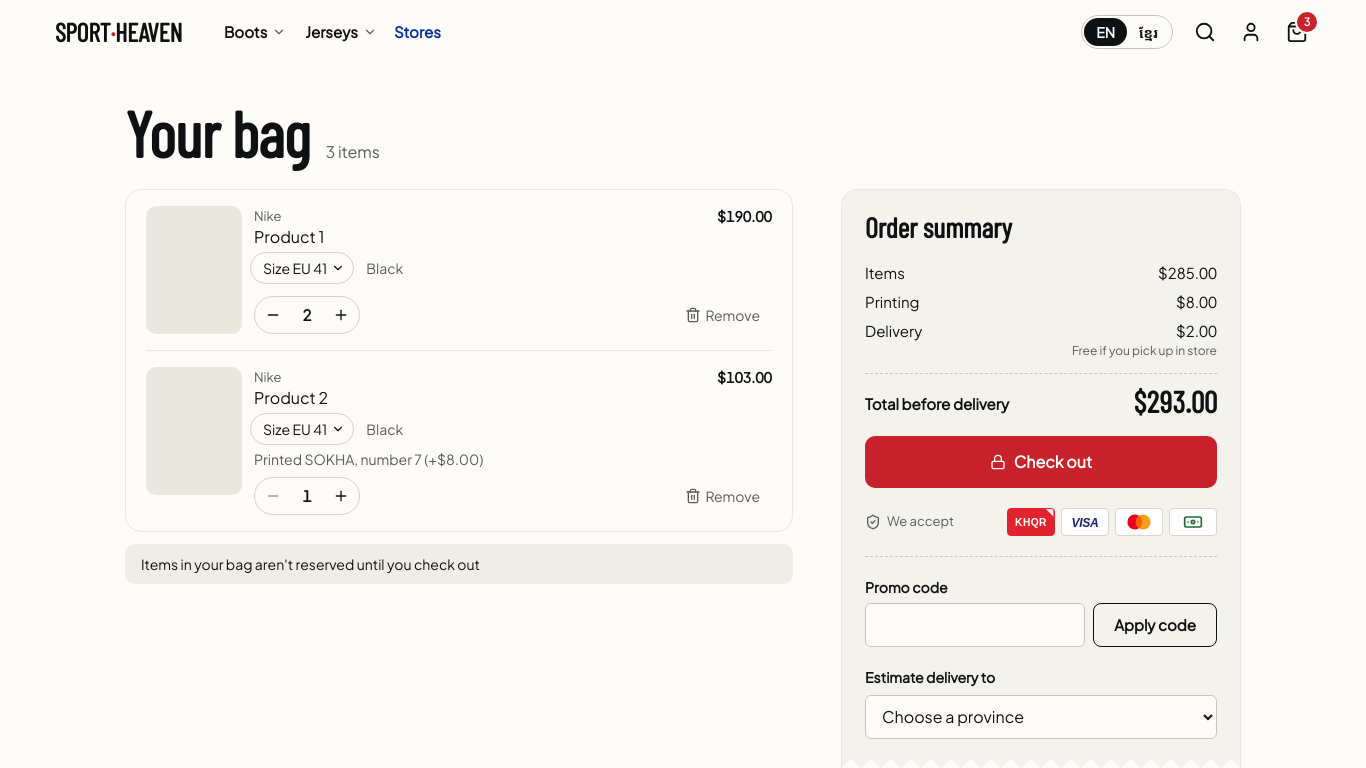
bag › removes a line
What coordinates should you click on to do the following:
click the button with aria-label "Remove Product 1"
I would click on:
 (723, 315)
Its box is [673,297,772,333].
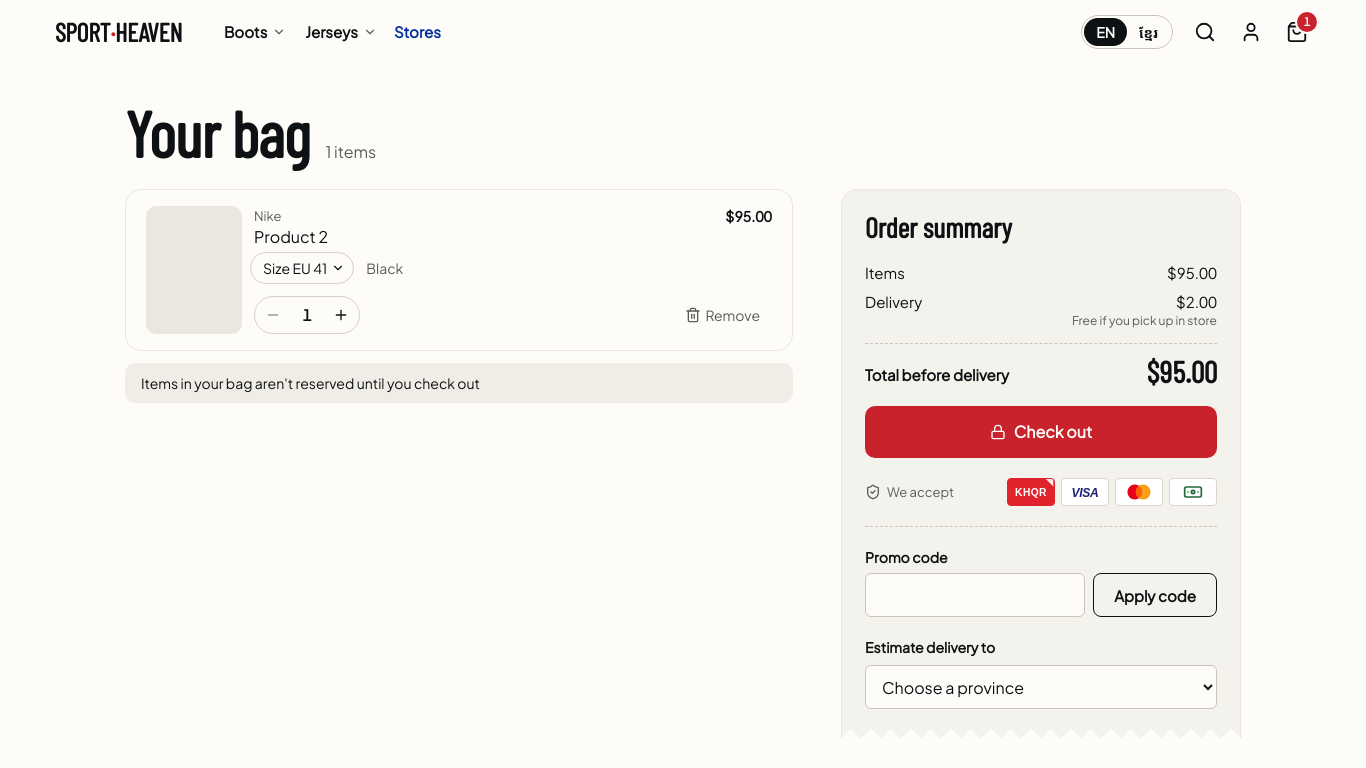
Result: the link "Product 1" is gone
